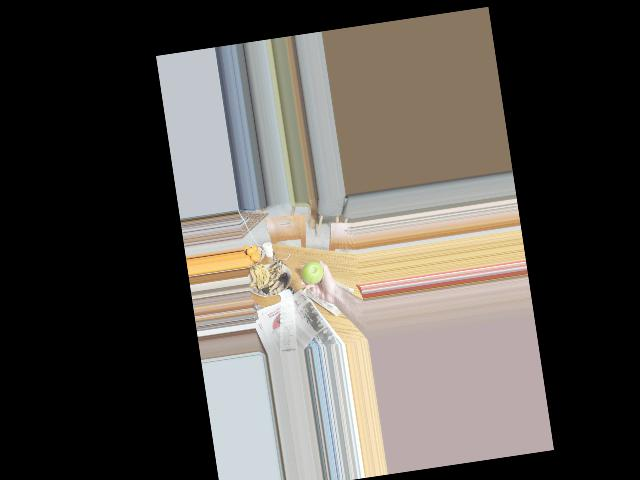apple: (298, 256, 325, 287)
